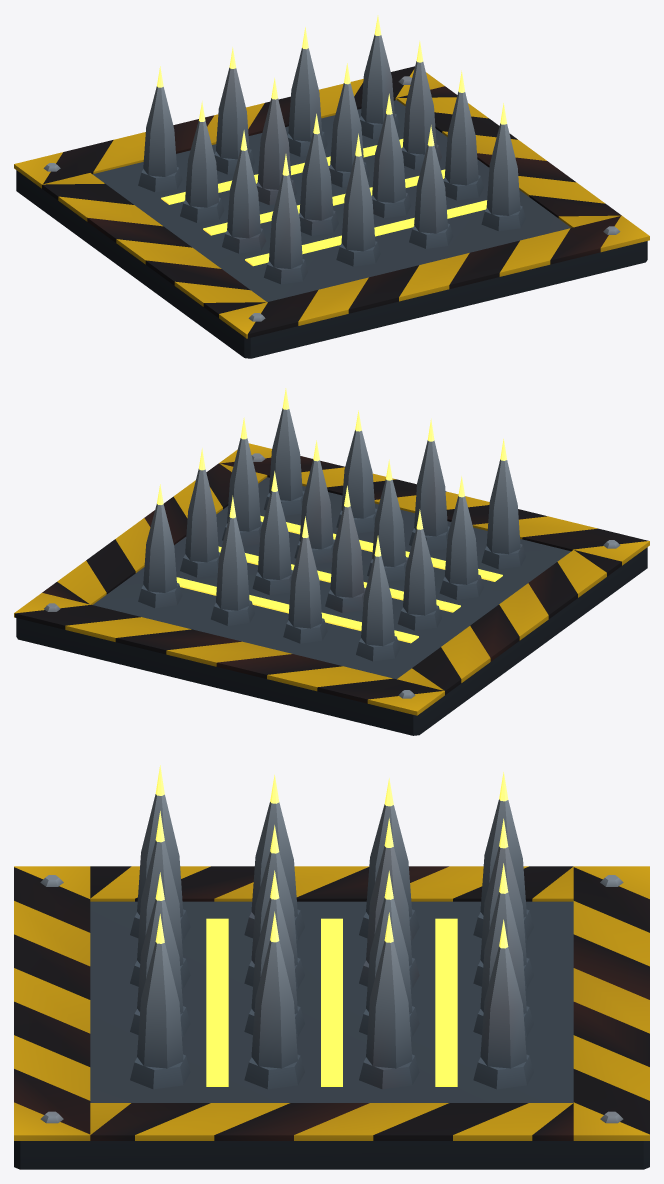
The model's file is spikes_forge.glb.
3 views of the same model, one above another, from view 1: azimuth 30°, elevation 25°; view 2: azimuth 150°, elevation 25°; view 3: azimuth 270°, elevation 25° (orthographic). The views are drawn at different scales.
Visible parts, largest first — view 1: spikes_forge; view 2: spikes_forge; view 3: spikes_forge.
Boxes of the visible parts, <box> form: spikes_forge: <box>14,15,649,358</box>; spikes_forge: <box>14,388,649,735</box>; spikes_forge: <box>14,765,649,1169</box>.
Size of the model in its own units: 2 by 0.6982 by 2.
